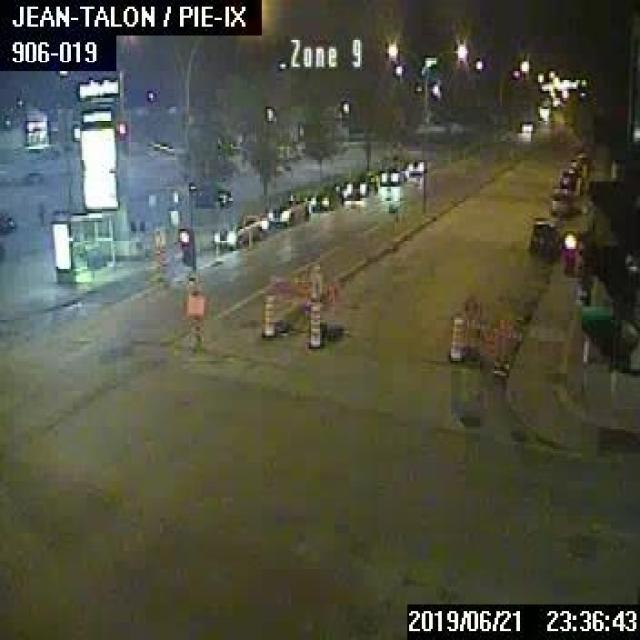construction: (272, 262, 343, 339), (462, 291, 522, 378), (446, 311, 464, 361), (306, 299, 322, 347), (260, 292, 274, 339)
cyclist: (560, 227, 578, 273)
vehicle: (211, 213, 267, 246), (174, 180, 231, 206), (527, 216, 561, 256), (266, 195, 309, 222), (340, 168, 378, 195), (308, 184, 342, 212), (545, 187, 572, 214), (378, 164, 407, 184), (558, 167, 579, 191), (0, 210, 15, 232), (406, 158, 426, 173), (574, 149, 588, 162), (567, 155, 580, 168), (520, 120, 534, 131)
